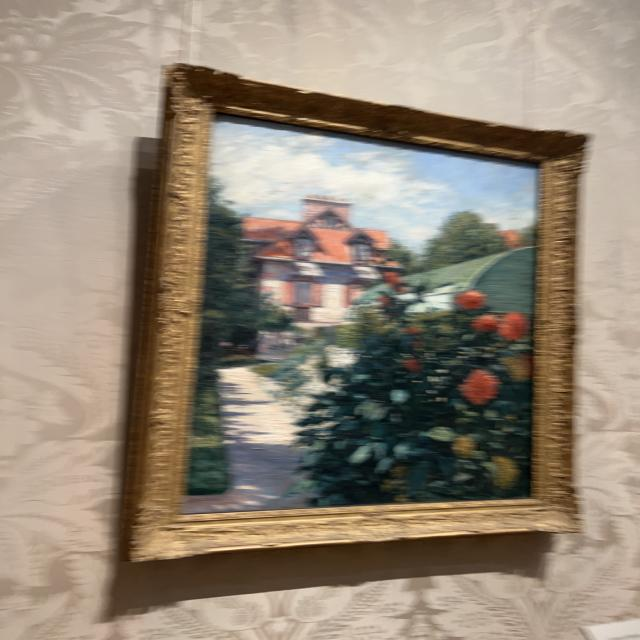summer: (183, 118, 540, 515)
